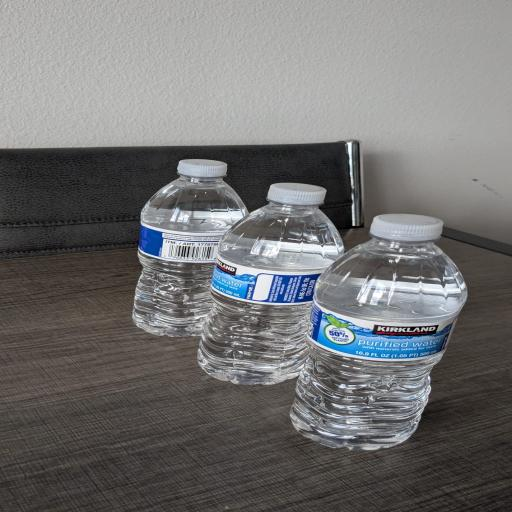waterbottle: (291, 215, 466, 450), (199, 184, 343, 384), (133, 160, 246, 336)
